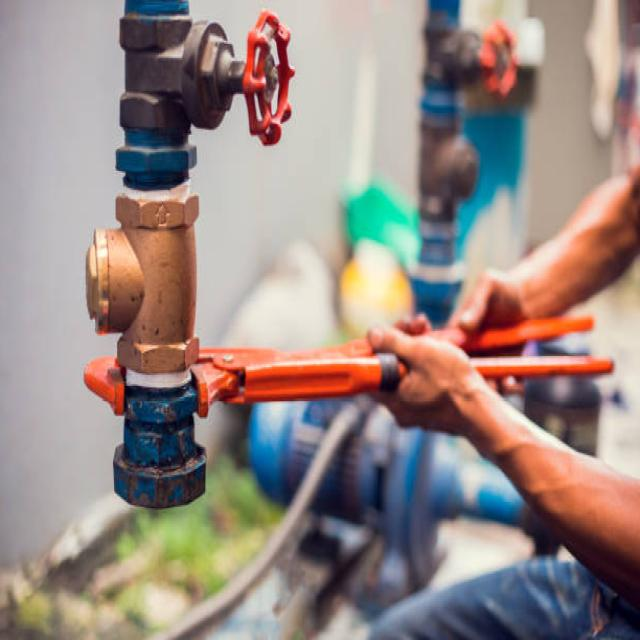Wheel Handle Valve Threaded: (237, 11, 294, 158)
